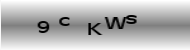9: (36, 20, 49, 34)
K: (87, 21, 102, 36)
W: (104, 16, 126, 30)
c: (57, 15, 70, 27)
s: (125, 14, 138, 25)
